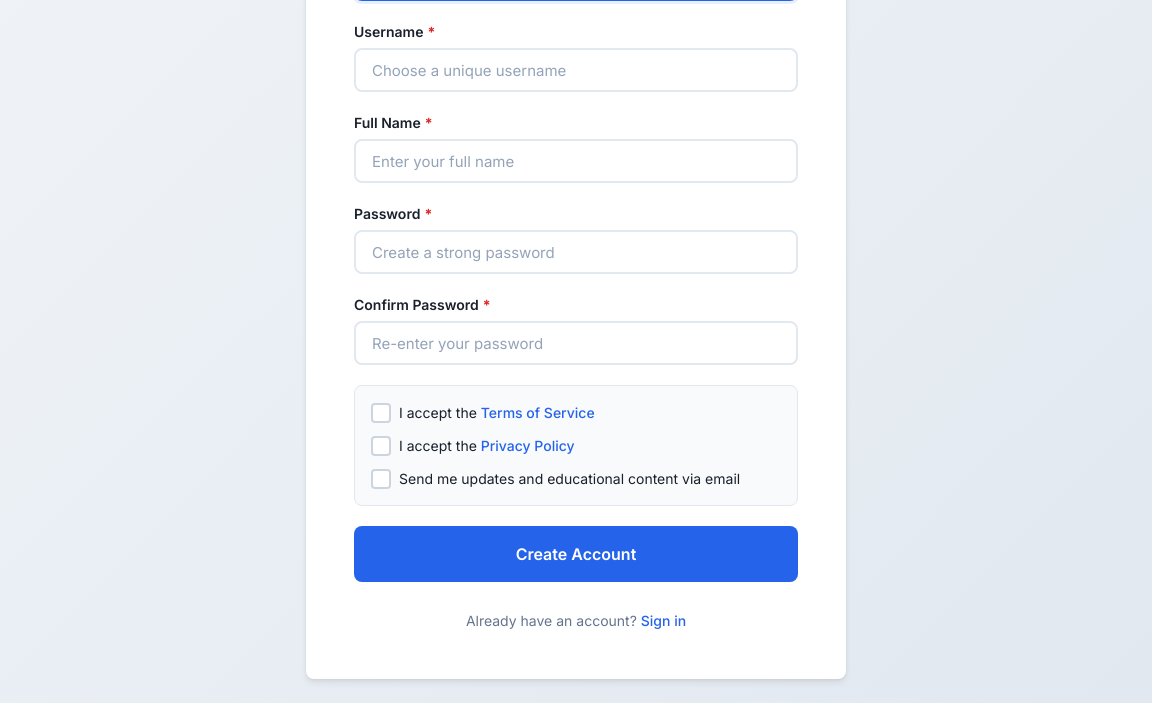
RegistrationPage Component › Form Validation - Email › shows error when email is empty
(page scrolled)
Step 1. Click the button "Create Account" → (576, 554), box [354, 526, 798, 582]
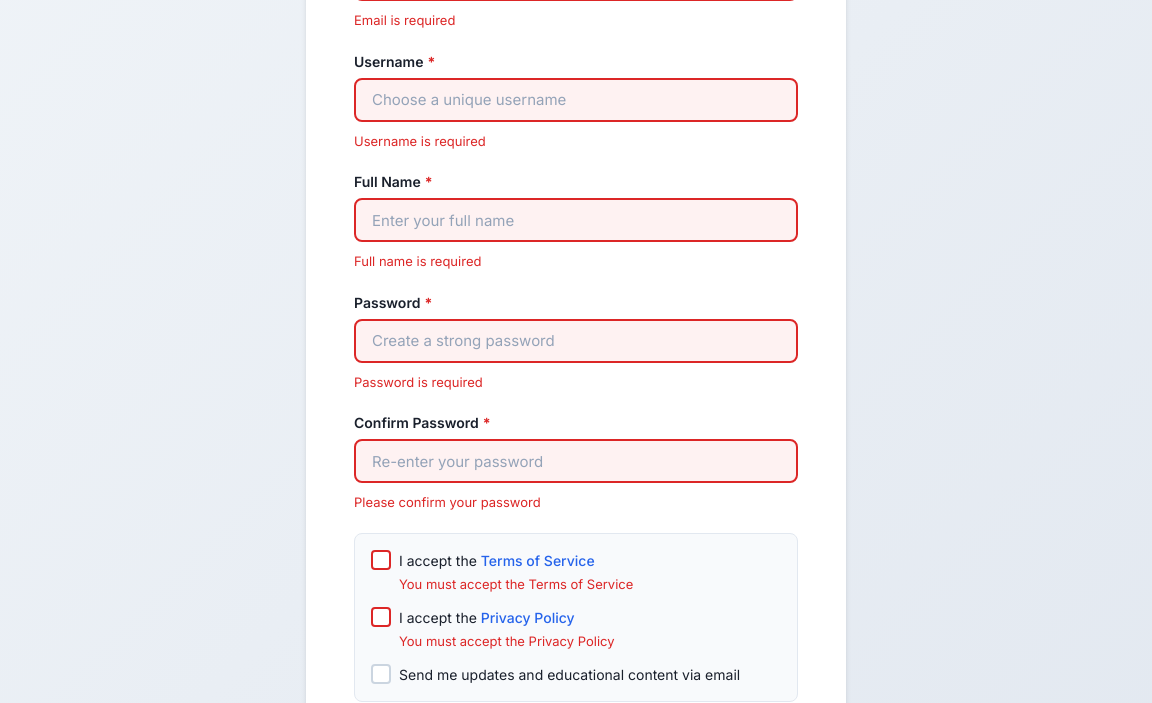
Now the text "Email is required" is shown, box [354, 12, 455, 28]
